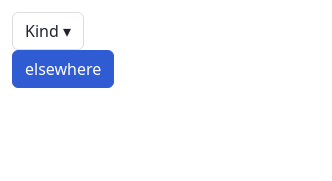
Test: FilterMenu › closes when keyboard focus leaves the menu, not when it moves inside
The width and height of the screenshot is (332, 181).
Later steps or results of the test are not shown.
Click the button "Kind ▾": (48, 31) left=12, top=12, right=84, bottom=50
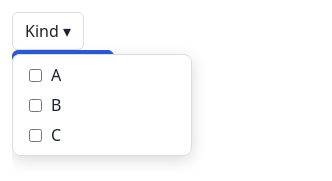
Leave the button "Kind ▾", box left=12, top=12, right=84, bottom=50
Now the element showing "A B C" is shown, box left=12, top=54, right=192, bottom=156
Leave the checkbox labelled "A", box left=29, top=68, right=42, bottom=82
Now the element showing "A B C" is shown, box left=12, top=54, right=192, bottom=156
